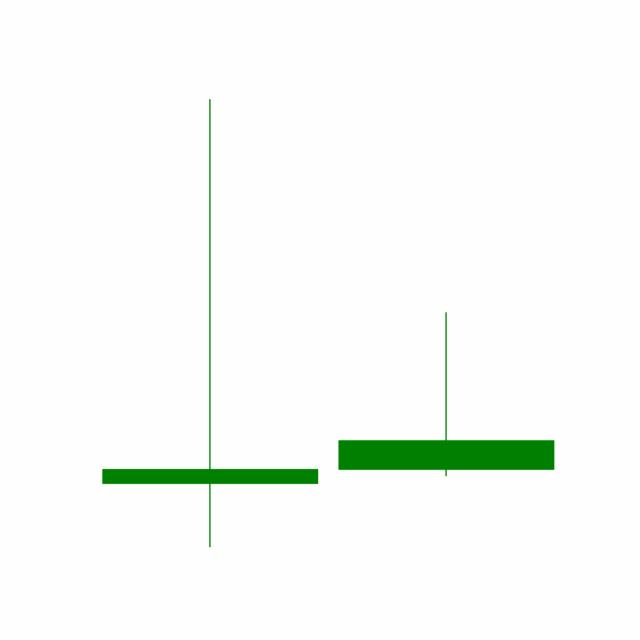Gravestone Doji: (327, 310, 565, 478)
